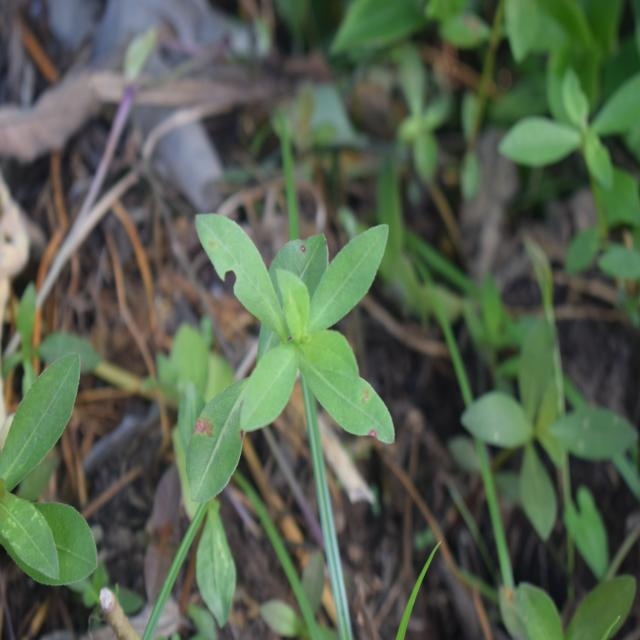Alligatorweed: (186, 198, 406, 443), (0, 351, 99, 594)
